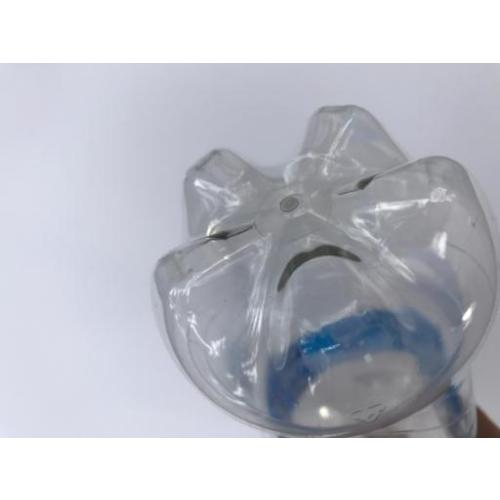plastic: (150, 102, 499, 439)
